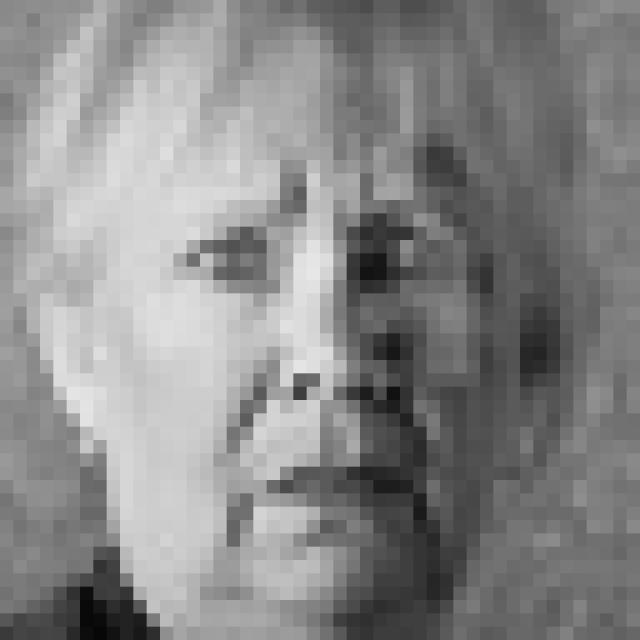fear: (174, 166, 470, 562)
